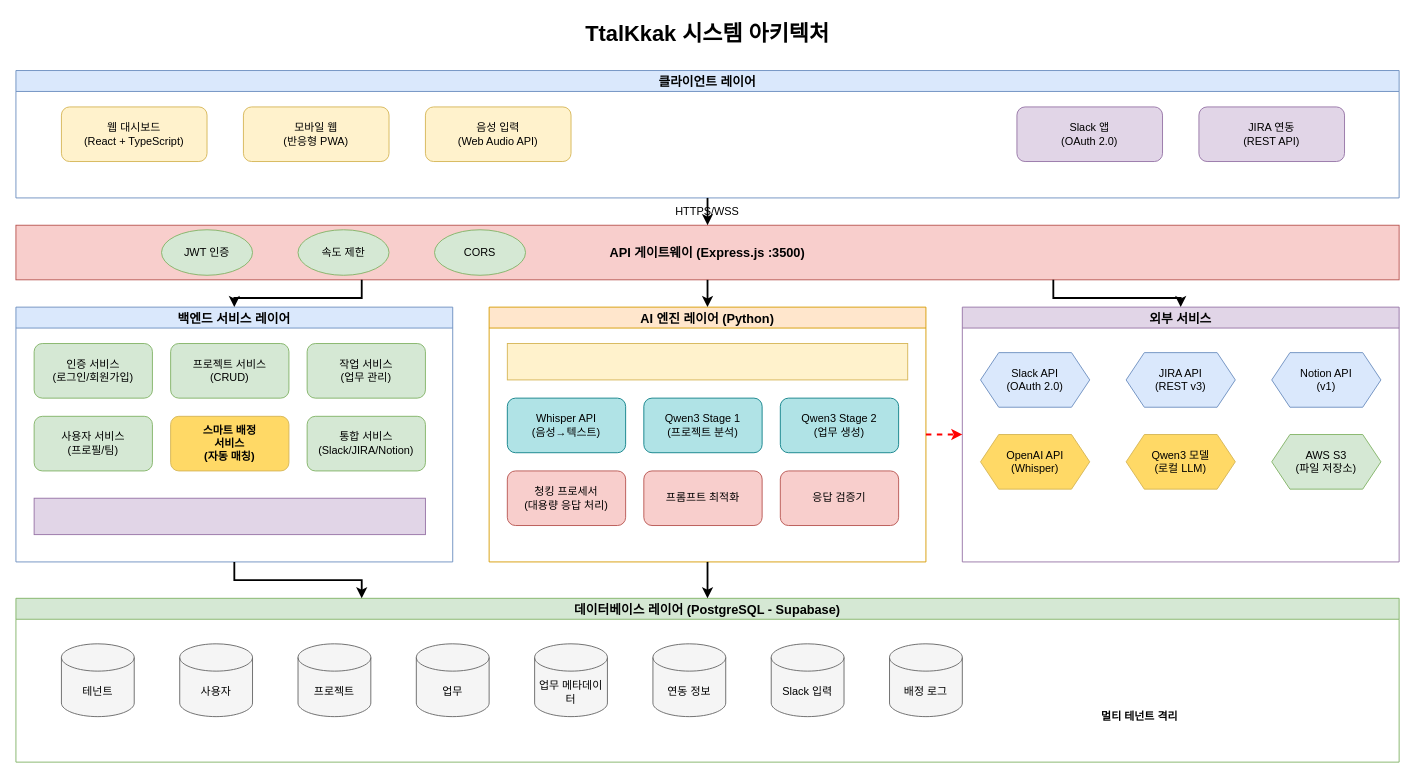
Some shapes in this 1415 by 778 pixel diagram are drawn without their labels. Here are the shapes that lost their labels. From the top down, the centre of each, then its label:
At point 707,361: "FastAPI 서버 (:8000)".
At point 229,516: "Prisma ORM".
